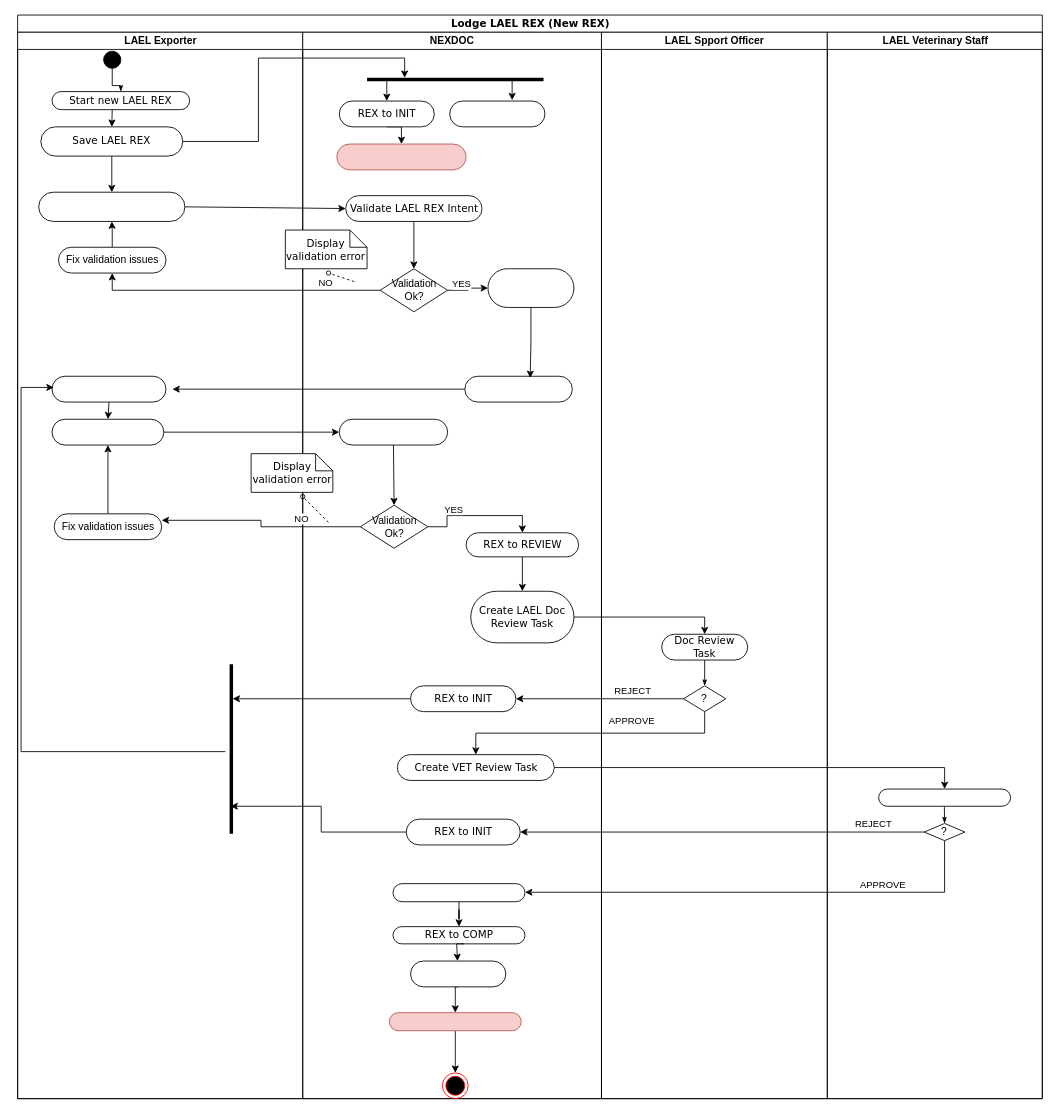
Image size: 1058x1114. Some labels were removed from this diagram. The shapes that lost their labels are listed below. From the top down, each one's centre as x and y in pixels, then its label:
At point (497, 113): "Create ICS record".
At point (401, 156): "Certificate extract draft".
At point (111, 206): "Submit LAEL REX Intent".
At point (530, 287): "Record LAEL REX Intent Approved".
At point (108, 388): "Fill LAEL REX details".
At point (518, 388): "Display Intent Approved message".
At point (107, 431): "Lodge LAEL REX".
At point (393, 431): "Validate LAEL REX".
At point (944, 797): "Vet Review Task".
At point (458, 892): "REX to CTRD".
At point (458, 973): "Update ICS record".
At point (454, 1021): "Certficate extract Printed".
